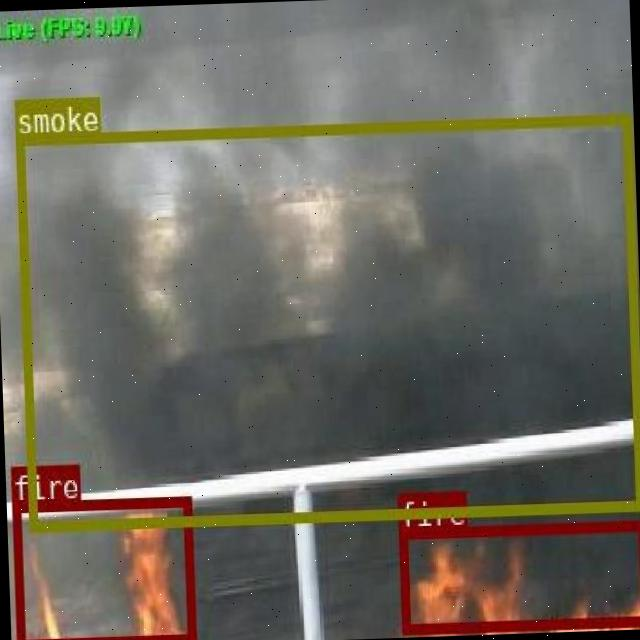fire: (398, 519, 640, 631), (11, 496, 193, 640)
smoke: (14, 113, 640, 530)
